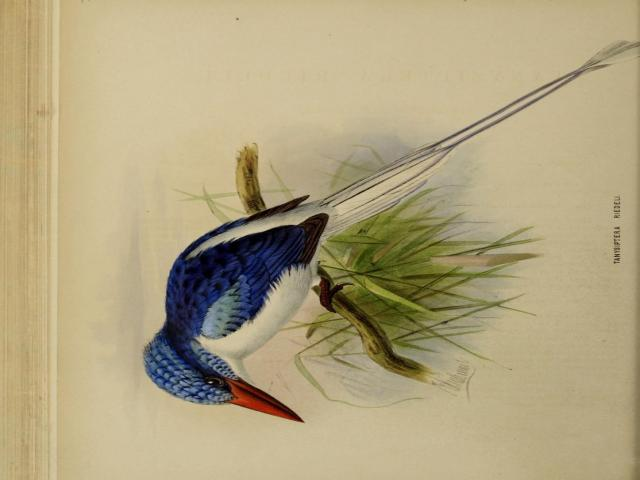Bird: (138, 36, 640, 422)
